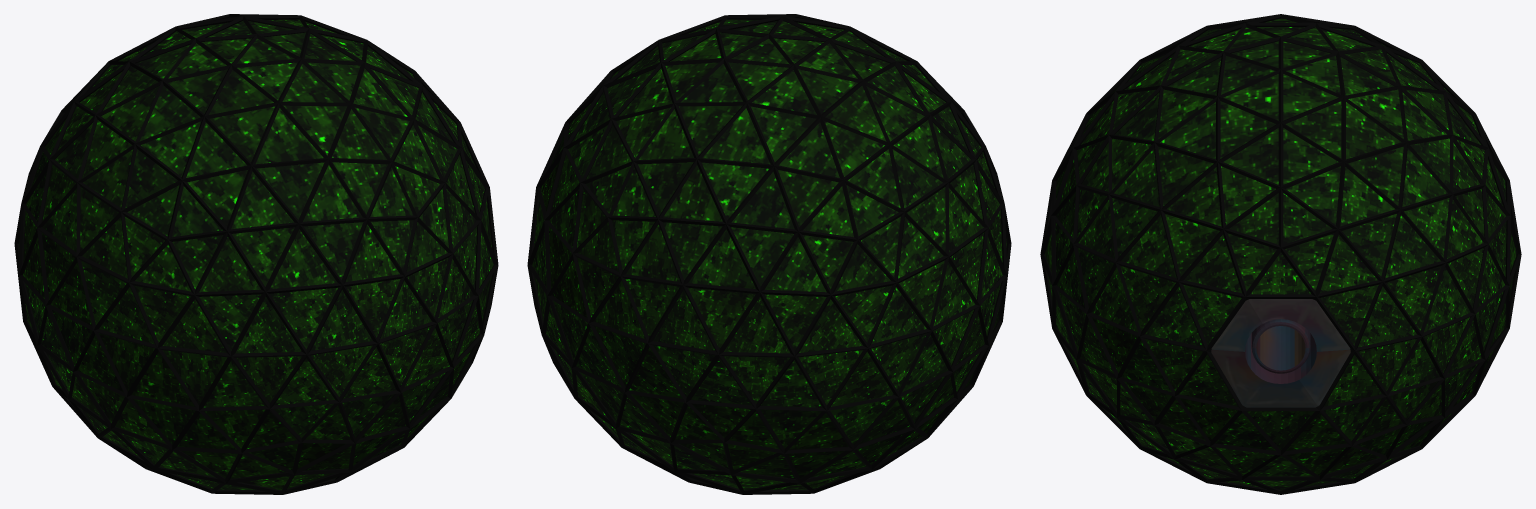
File: Luna Digital.fbx
3 views of the same model, side by side, from view 1: azimuth 30°, elevation 25°; view 2: azimuth 150°, elevation 25°; view 3: azimuth 270°, elevation 25° (orthographic).
Visible parts, largest first — view 1: Icosphere, Icosphere.001; view 2: Icosphere, Icosphere.001; view 3: Icosphere, Icosphere.001.
Part boxes in pixels (<box>): Icosphere: <box>19,19,493,490</box>; Icosphere.001: <box>14,14,498,494</box>; Icosphere: <box>532,19,1006,490</box>; Icosphere.001: <box>527,14,1011,494</box>; Icosphere: <box>1045,18,1516,490</box>; Icosphere.001: <box>1040,14,1521,494</box>.
Size of the model in its own units: 798 by 815 by 815.
2 materials, 2 textured.
